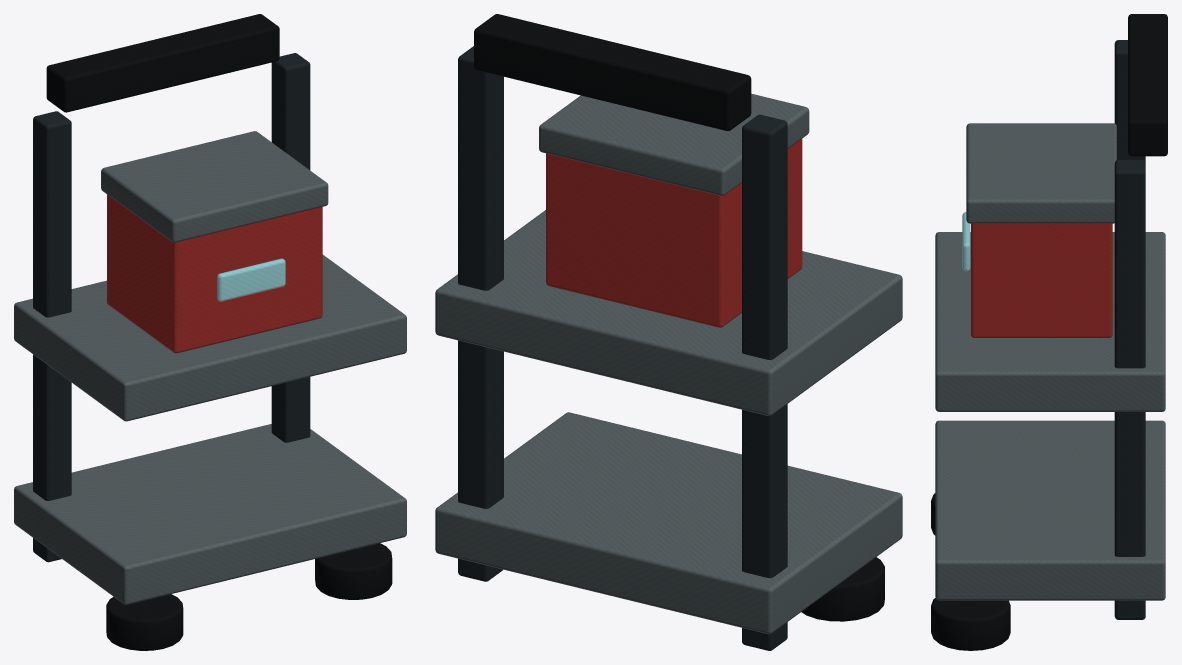
File: ToolCart.glb
3 views of the same model, side by side, from view 1: azimuth 30°, elevation 25°; view 2: azimuth 150°, elevation 25°; view 3: azimuth 270°, elevation 25° (orthographic). The views are drawn at different scales.
Visible parts, largest first — view 1: ToolCart_Mesh; view 2: ToolCart_Mesh; view 3: ToolCart_Mesh.
Part boxes in pixels (left/top/right/bottom): ToolCart_Mesh: left=14, top=14, right=406, bottom=650; ToolCart_Mesh: left=435, top=14, right=902, bottom=650; ToolCart_Mesh: left=931, top=14, right=1167, bottom=650.
Size of the model in its own units: 0.76 by 1.28 by 0.535.
5 materials, 5 textured.
